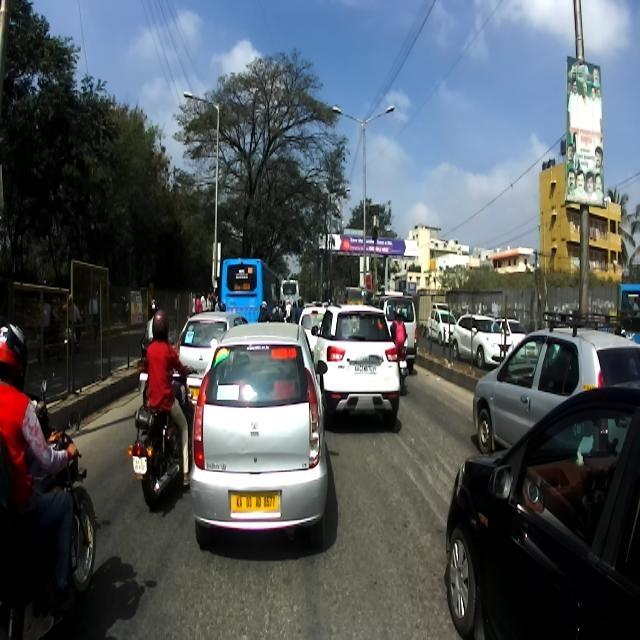car ahead at: (448, 391, 639, 640), (197, 315, 327, 541), (324, 294, 404, 436)
motorcycle ahead at: (130, 402, 200, 518)
